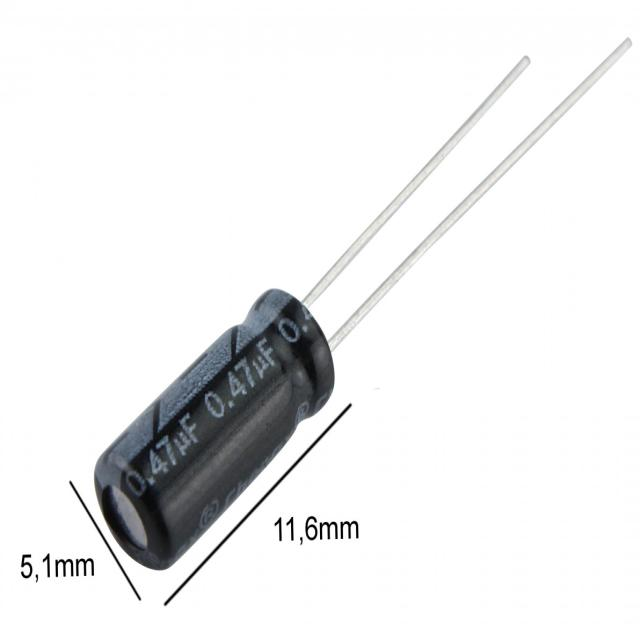Capacitor: (94, 39, 634, 573)
